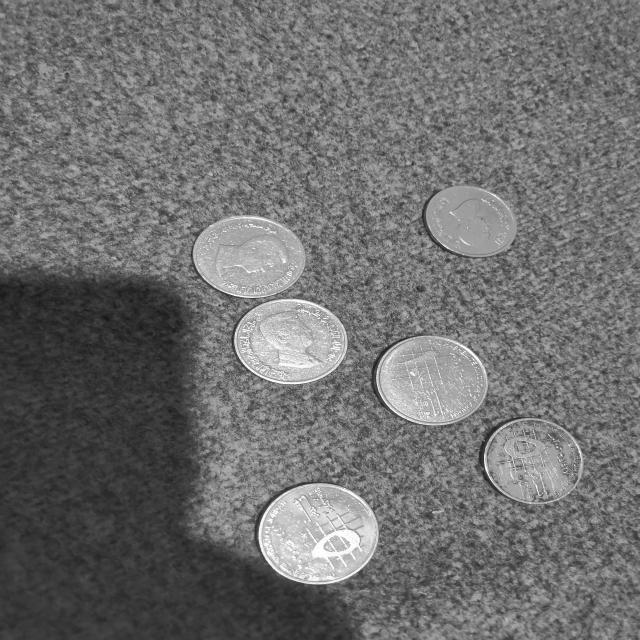10-coins: (372, 335, 492, 428)
5-coins: (256, 481, 381, 584), (232, 297, 350, 383), (193, 212, 307, 300), (417, 184, 525, 258)
